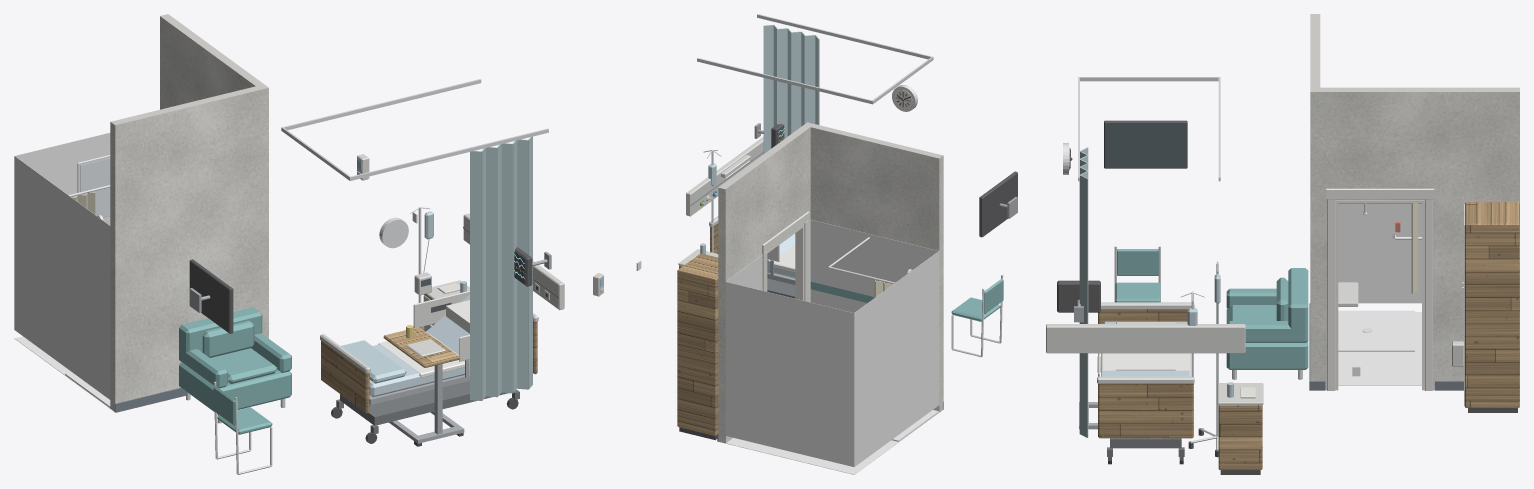
The model's file is room_ward_388x458.glb.
3 renders of one model, left to right at view 1: azimuth 30°, elevation 25°; view 2: azimuth 150°, elevation 25°; view 3: azimuth 270°, elevation 25°, orthographic. The views are drawn at different scales.
Parts seen in each view (by area): view 1: room_ward_388x458_plaster, room_ward_388x458_tile_c, room_ward_388x458_curtain, room_ward_388x458_vinyl_t, room_ward_388x458_cart_w, room_ward_388x458_laminate, room_ward_388x458_steel, room_ward_388x458_steel_d, room_ward_388x458_alu, room_ward_388x458_dark, room_ward_388x458_chrome, room_ward_388x458_bed_b (+3 smaller); view 2: room_ward_388x458_tile_c, room_ward_388x458_plaster, room_ward_388x458_laminate, room_ward_388x458_curtain, room_ward_388x458_cart_w, room_ward_388x458_dark, room_ward_388x458_alu, room_ward_388x458_frame, room_ward_388x458_vinyl_t, room_ward_388x458_chrome, room_ward_388x458_steel; view 3: room_ward_388x458_plaster, room_ward_388x458_laminate, room_ward_388x458_tile_c, room_ward_388x458_cart_w, room_ward_388x458_vinyl_t, room_ward_388x458_frame, room_ward_388x458_screen, room_ward_388x458_curtain, room_ward_388x458_dark, room_ward_388x458_bed_w, room_ward_388x458_chrome, room_ward_388x458_alu (+5 smaller).
Part boxes in pixels (x1,y1,x2,y2): room_ward_388x458_plaster: (110, 14, 268, 411); room_ward_388x458_tile_c: (14, 132, 110, 408); room_ward_388x458_curtain: (340, 136, 532, 400); room_ward_388x458_vinyl_t: (179, 307, 291, 434); room_ward_388x458_cart_w: (320, 154, 564, 373); room_ward_388x458_laminate: (321, 294, 537, 413); room_ward_388x458_steel: (189, 226, 559, 443); room_ward_388x458_steel_d: (336, 381, 519, 434); room_ward_388x458_alu: (281, 79, 548, 180); room_ward_388x458_dark: (189, 247, 547, 333); room_ward_388x458_chrome: (68, 155, 432, 474); room_ward_388x458_bed_b: (369, 294, 469, 397); room_ward_388x458_tile_c: (725, 219, 939, 474); room_ward_388x458_plaster: (718, 122, 943, 443); room_ward_388x458_laminate: (677, 223, 718, 435); room_ward_388x458_curtain: (763, 24, 819, 153); room_ward_388x458_cart_w: (593, 136, 779, 296); room_ward_388x458_dark: (679, 91, 1017, 440); room_ward_388x458_alu: (697, 14, 933, 104); room_ward_388x458_frame: (762, 211, 809, 301); room_ward_388x458_vinyl_t: (810, 278, 1003, 321); room_ward_388x458_chrome: (600, 84, 1003, 357); room_ward_388x458_steel: (690, 123, 1017, 284); room_ward_388x458_plaster: (1310, 14, 1519, 390); room_ward_388x458_laminate: (1098, 202, 1519, 469); room_ward_388x458_tile_c: (1338, 204, 1421, 385); room_ward_388x458_cart_w: (1046, 204, 1464, 406); room_ward_388x458_vinyl_t: (1115, 203, 1421, 369); room_ward_388x458_frame: (1326, 188, 1433, 390); room_ward_388x458_screen: (1106, 124, 1185, 167); room_ward_388x458_curtain: (1079, 147, 1187, 437); room_ward_388x458_dark: (1057, 120, 1517, 474); room_ward_388x458_bed_w: (1101, 353, 1190, 376); room_ward_388x458_chrome: (1063, 143, 1463, 450); room_ward_388x458_alu: (1078, 77, 1220, 181).
Size of the model in its own units: 3.94 by 3.31 by 4.75.
33 materials, 2 textured.
